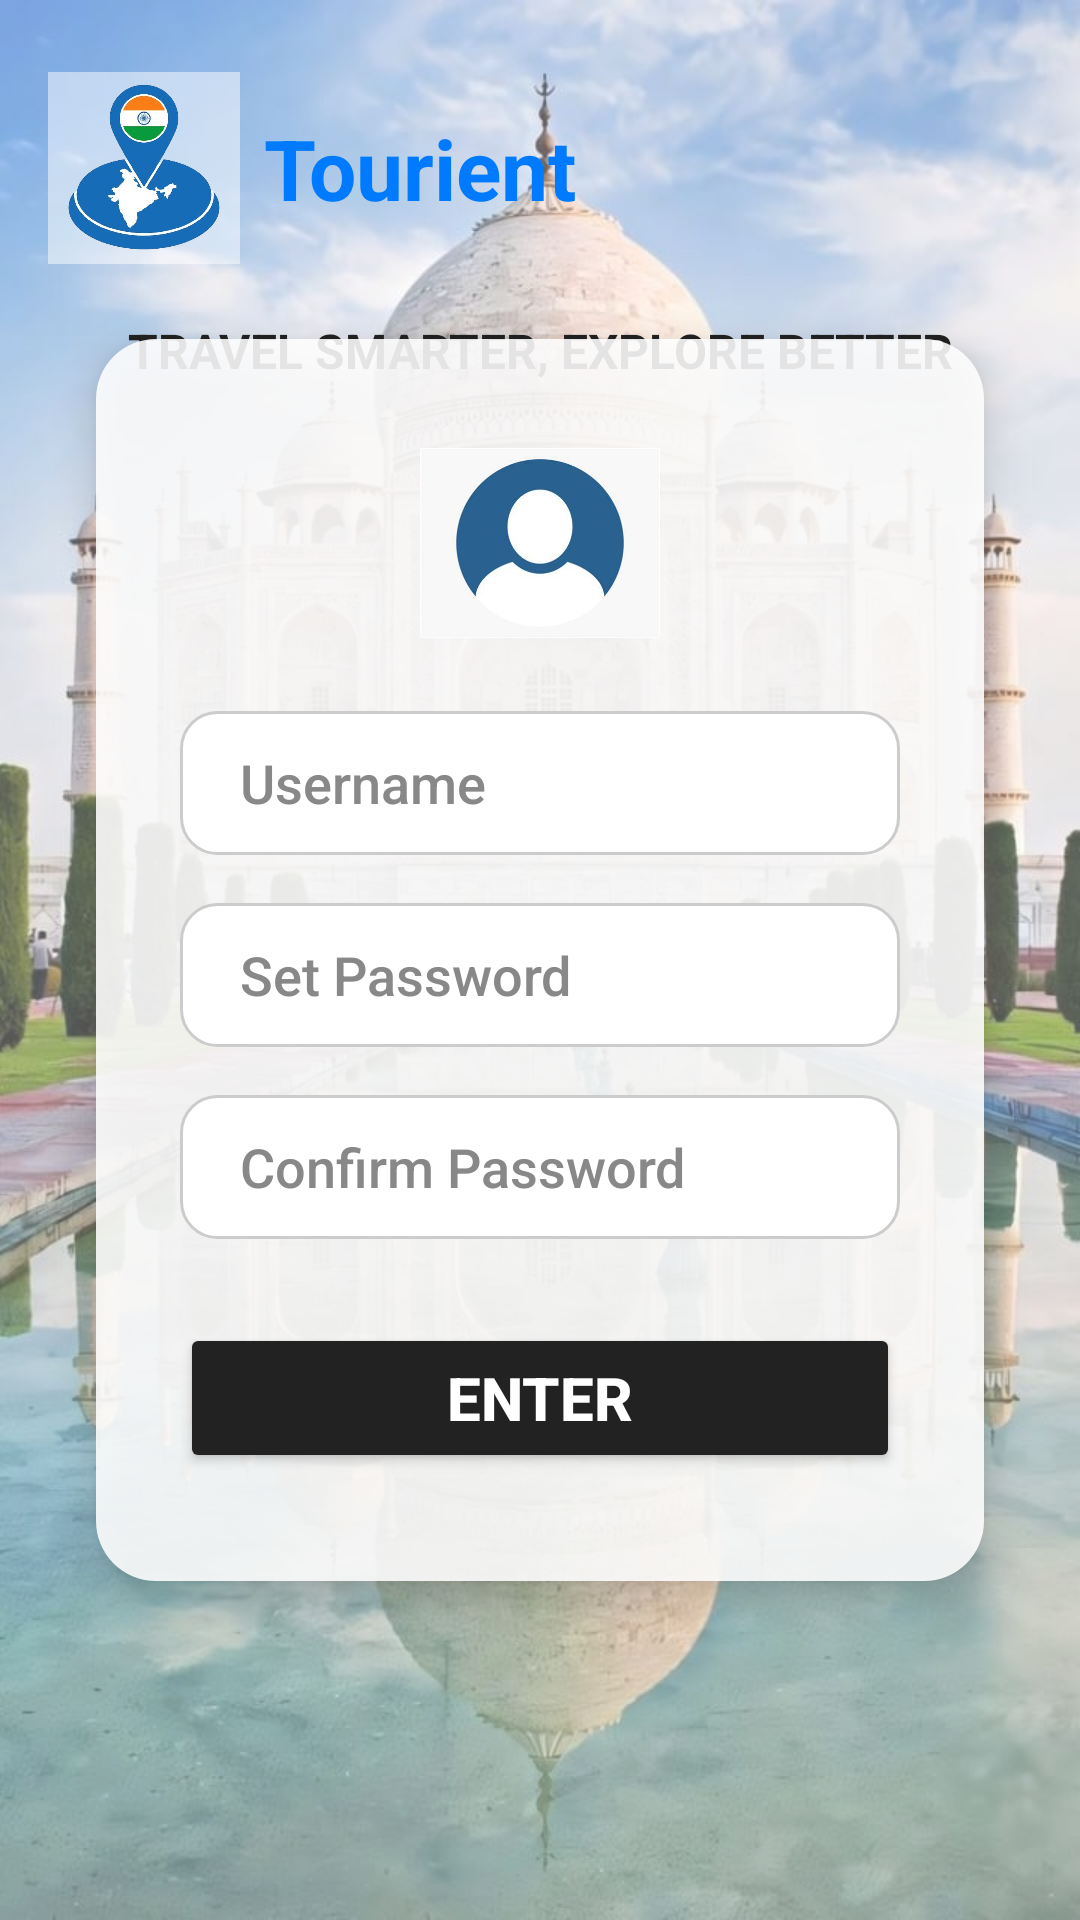

Icon click points for this 1080 x 1920 phone screenshot, format point (x, y):
User Icon: point (540, 527)
